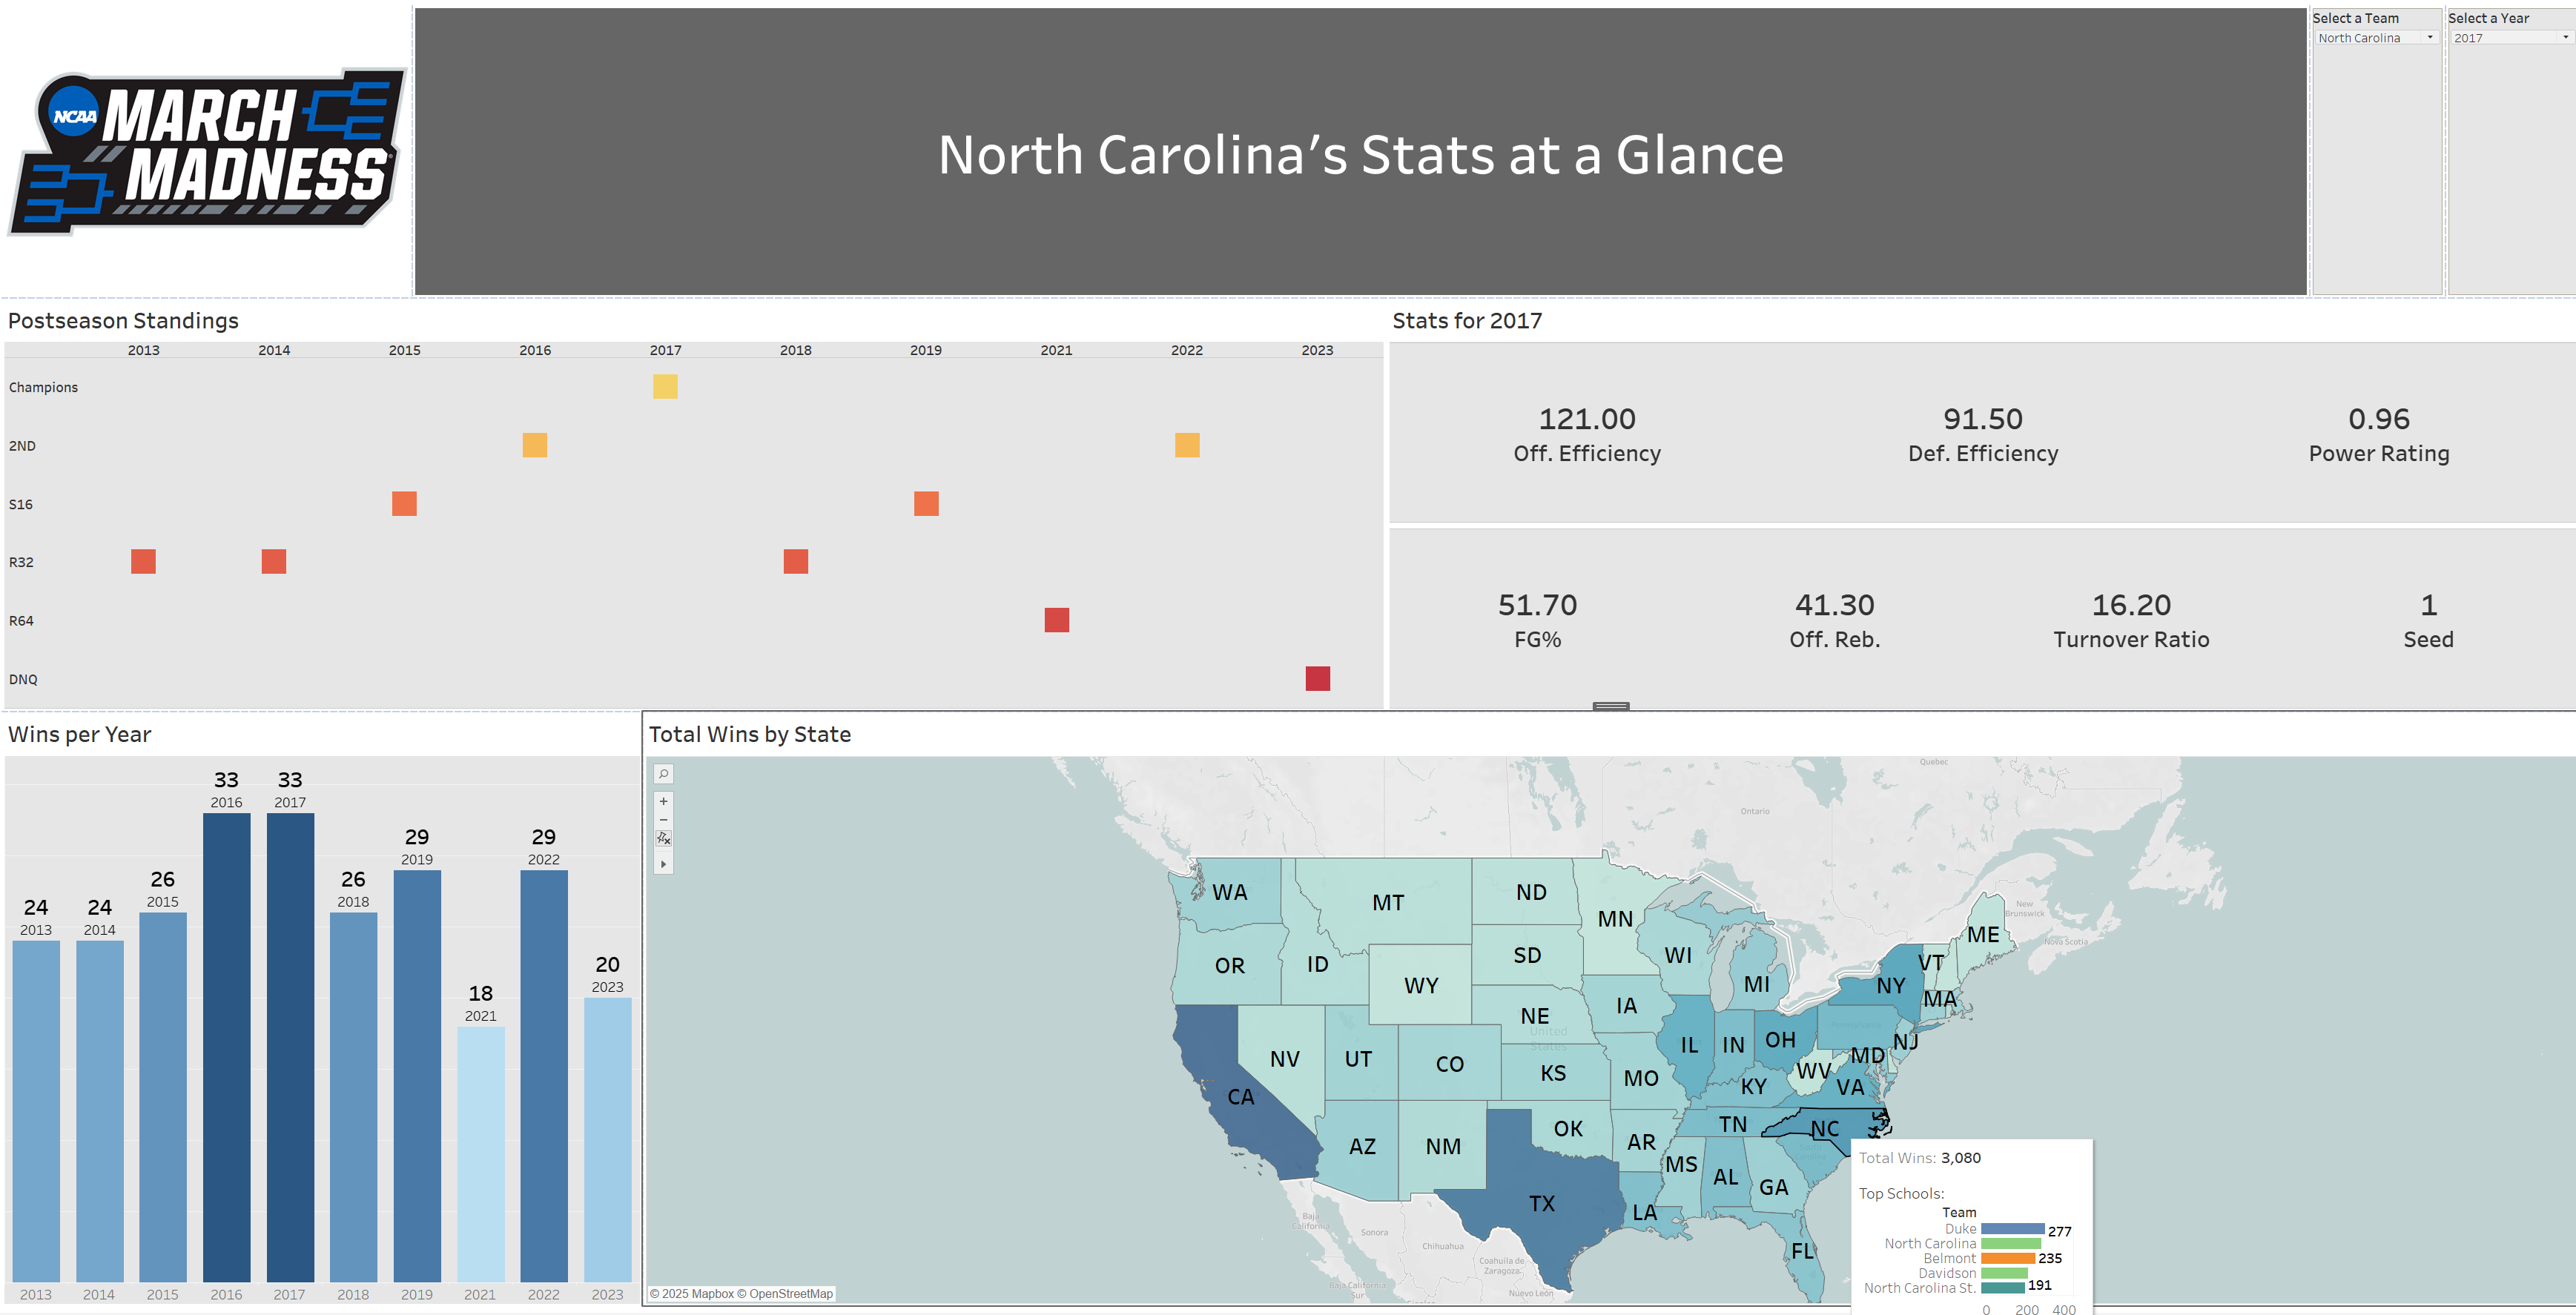

Layout of this report page (visuals, bound fields, positions):
{"tool":"tableau","page":{"name":"Dashboard 1","canvas":[1000,1000],"units":"permille","ordinal":0},"visuals":[{"type":"image","param":"C:/Users/PC-1A/Downloads/March_Madness_logo.svg.png","box":[2.3,4.5,158.5,222.9]},{"type":"text","box":[160.8,4.5,732.2,222.9]},{"type":"parameter","param":"[Parameters].[Parameter 2]","box":[893,4.5,52.4,222.9]},{"type":"parameter","param":"[Parameters].[Parameter 1]","box":[945.3,4.5,52.4,222.9]},{"type":"worksheet","title":"Postseason Standing","mark":"Automatic","rows":["Calculation_1123366684948922369"],"cols":["YEAR"],"box":[2.3,227.4,534.5,314.9]},{"type":"worksheet","title":"Stat Summary 1","mark":"Automatic","box":[536.8,227.4,460.9,173.2]},{"type":"worksheet","title":"Stat Summary 2","mark":"Automatic","box":[536.8,400.7,460.9,141.6]},{"type":"worksheet","title":"Wins per Year","mark":"Bar","rows":["Wins"],"cols":["YEAR"],"box":[2.3,542.3,247.5,453.2]},{"type":"worksheet","title":"Wins by State","mark":"Automatic","box":[249.8,542.3,747.9,453.2]}]}

Visuals, with their boxes on the dashboard's canvas, which has no fixed pixel size, in thousandths of its width and height (x1, y1, x2, y2). These are canvas units, not pixel positions in the 2576x1315 screenshot, which may show the page scaled, cropped or inside an application window:
image: {"left": 2, "top": 4, "right": 161, "bottom": 227}
text: {"left": 161, "top": 4, "right": 893, "bottom": 227}
parameter: {"left": 893, "top": 4, "right": 945, "bottom": 227}
parameter: {"left": 945, "top": 4, "right": 998, "bottom": 227}
"Postseason Standing" worksheet: {"left": 2, "top": 227, "right": 537, "bottom": 542}
"Stat Summary 1" worksheet: {"left": 537, "top": 227, "right": 998, "bottom": 401}
"Stat Summary 2" worksheet: {"left": 537, "top": 401, "right": 998, "bottom": 542}
"Wins per Year" worksheet (Bar marks): {"left": 2, "top": 542, "right": 250, "bottom": 996}
"Wins by State" worksheet: {"left": 250, "top": 542, "right": 998, "bottom": 996}
